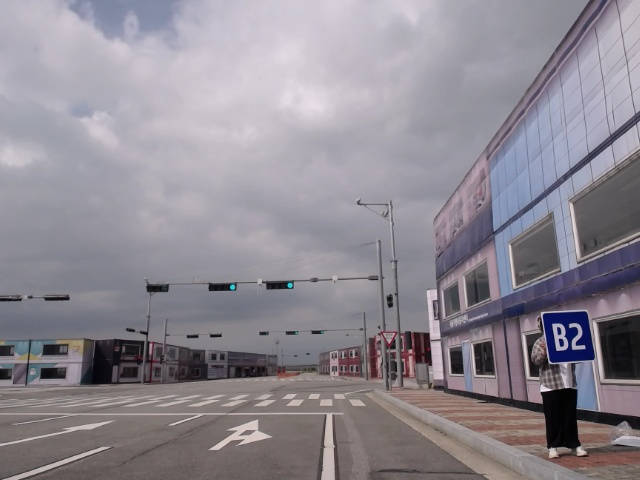delivery_b2: (540, 309, 599, 365)
straight_green_4: (206, 280, 241, 292), (264, 280, 297, 291), (285, 329, 301, 337), (311, 329, 327, 336)
